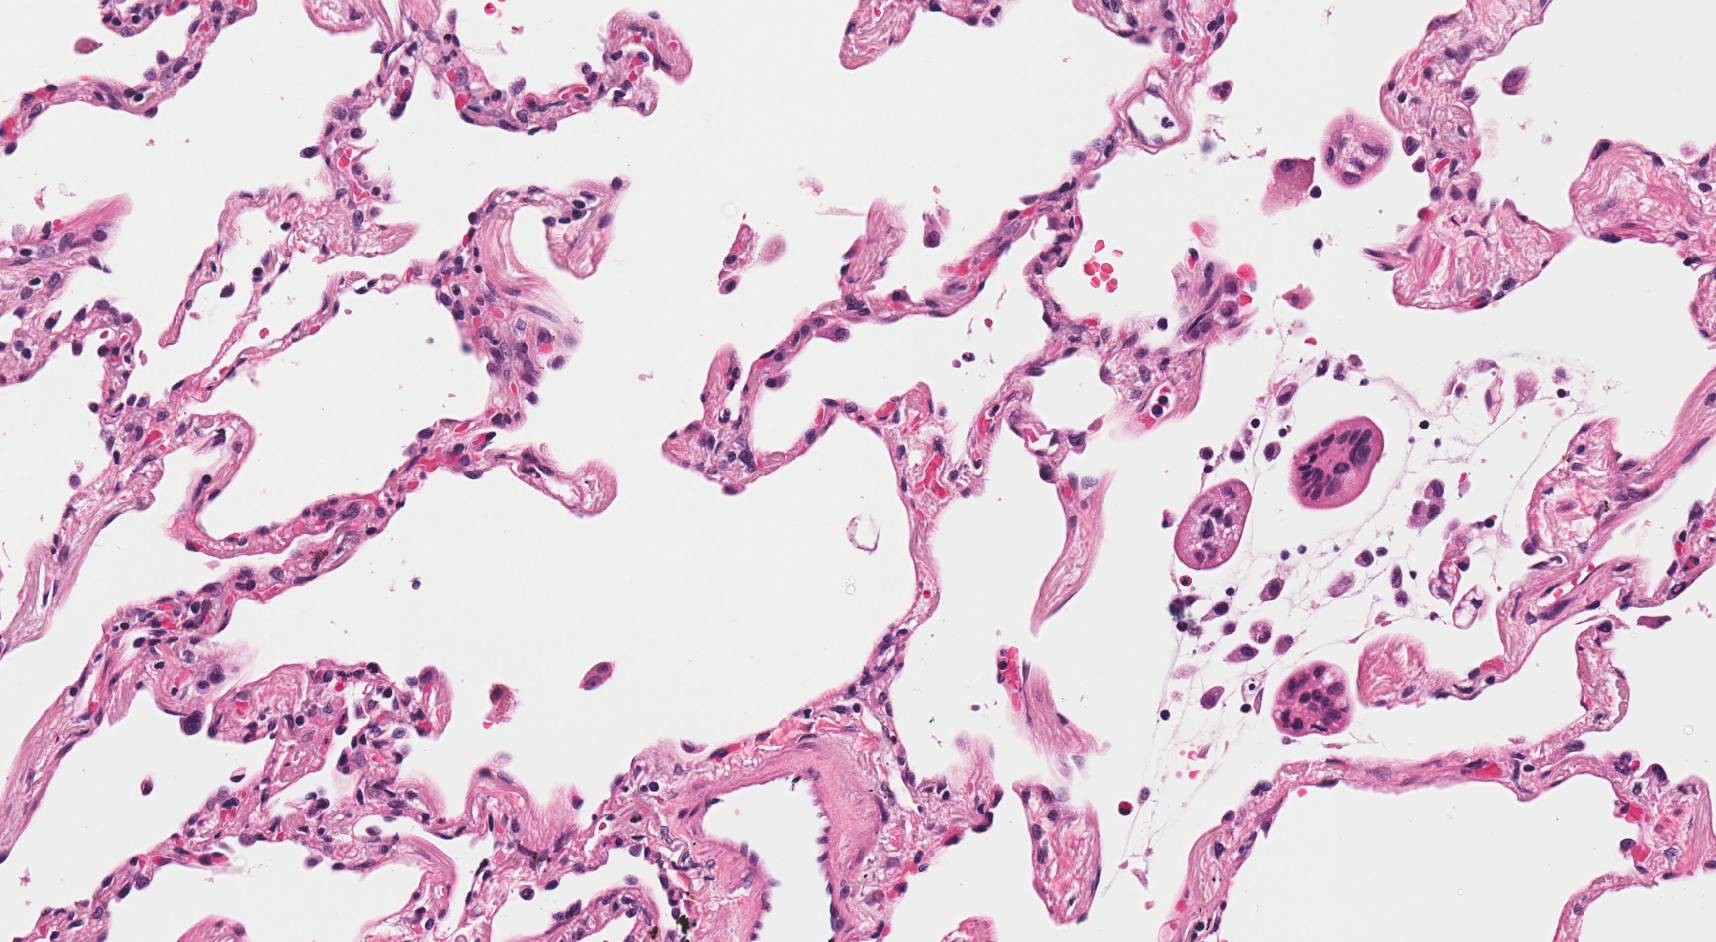stas: (1289, 416, 1385, 510), (1172, 477, 1252, 569), (1272, 662, 1352, 737), (1322, 111, 1389, 185)
